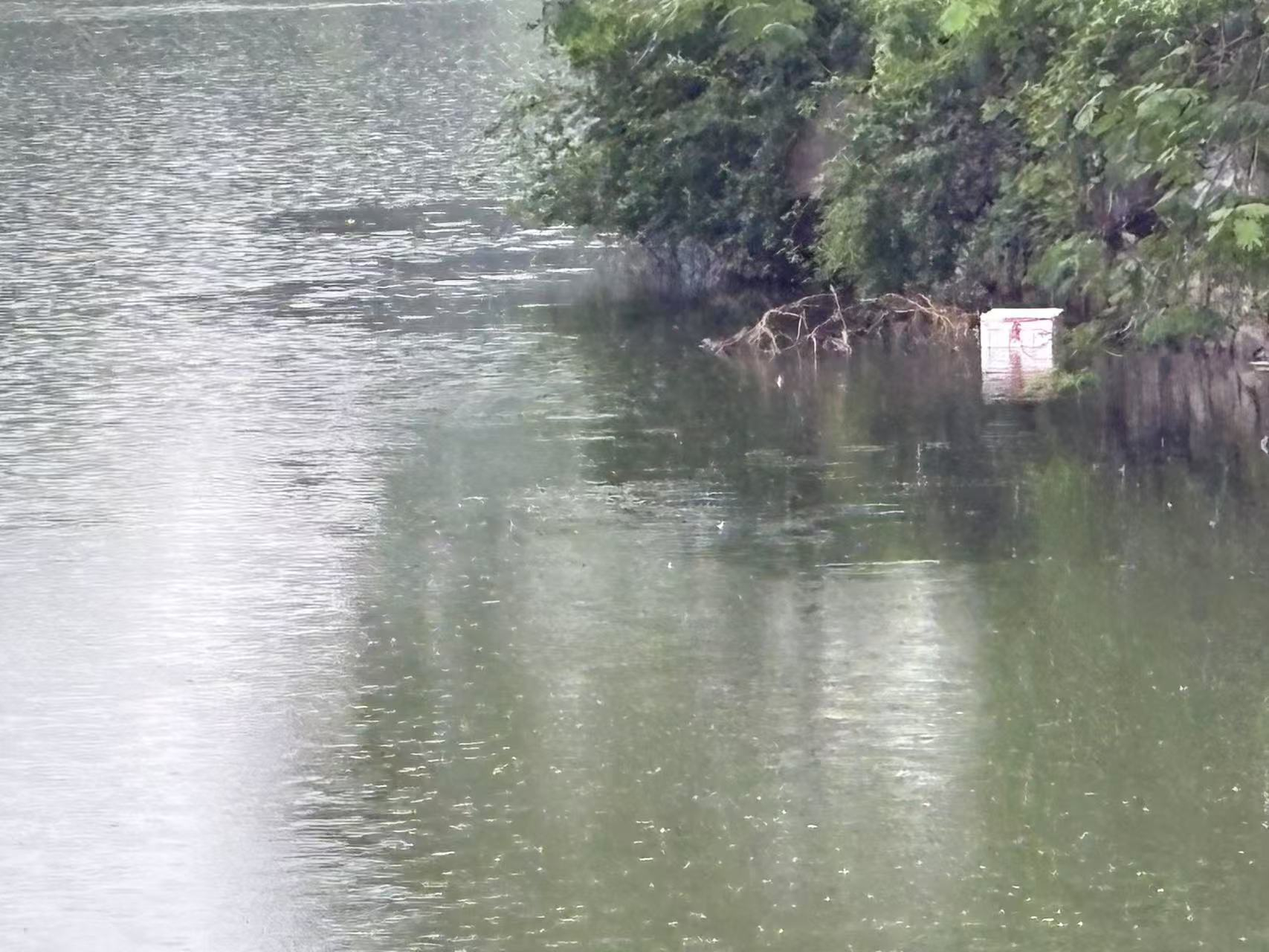Plastic wastes: (975, 306, 1063, 365)
